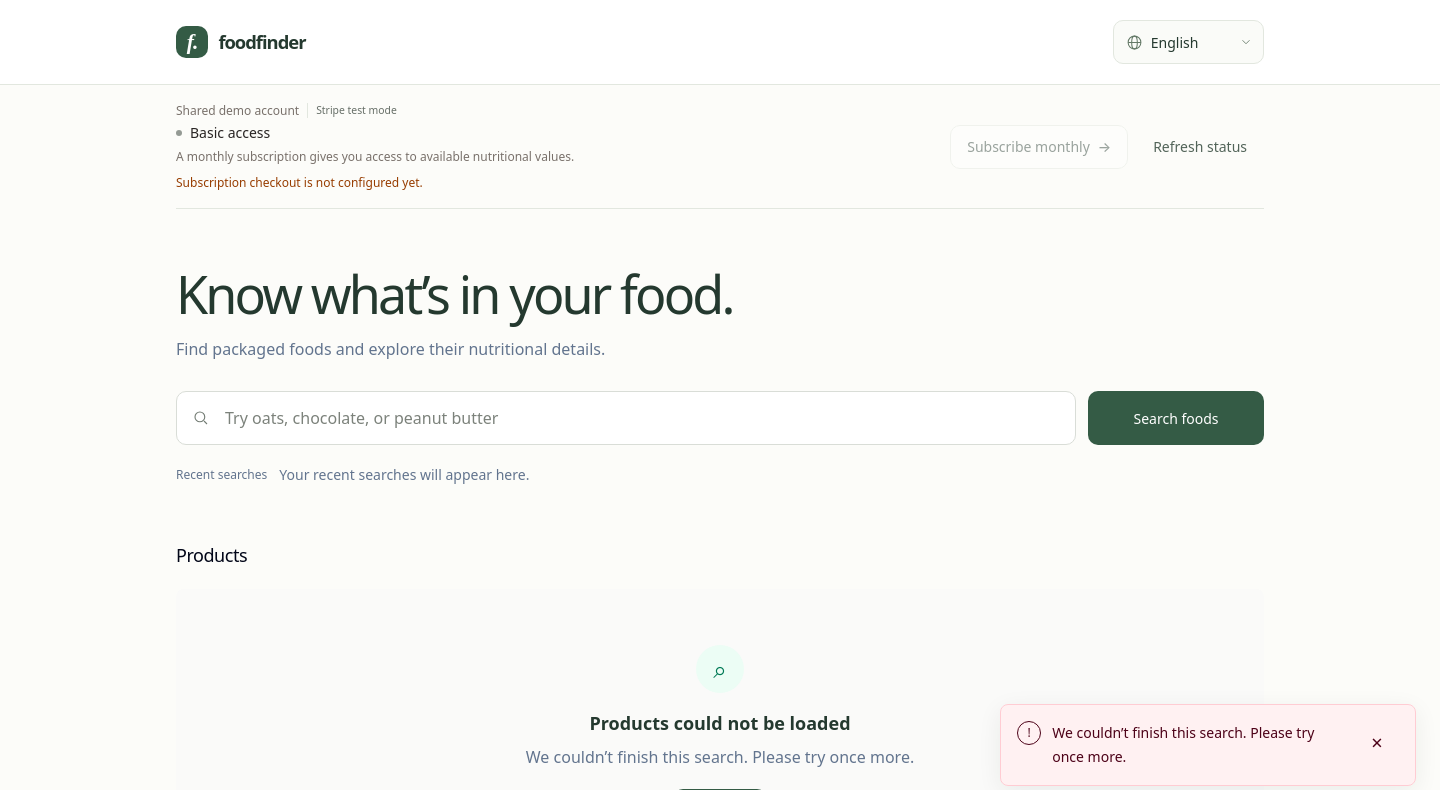
Scenario: dismisses a popup and retries a failed initial catalog
Expected: the message "! We couldn’t finish this search. Please try once more. ×" is shown, [1000,704,1416,786]
Click the button named "Dismiss notification": click(1377, 743) [1355,721,1399,765]
(page scrolled)
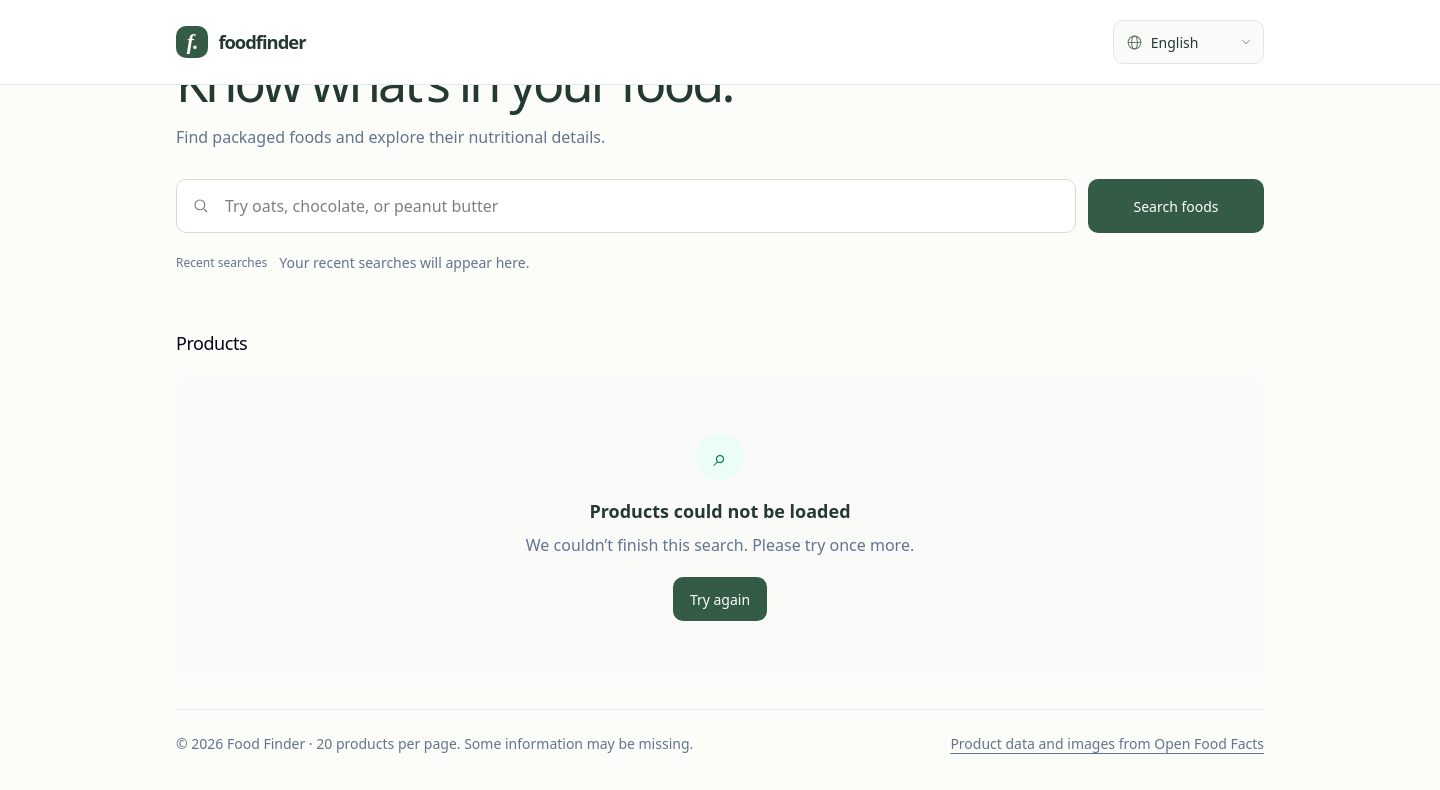
Now the message "! We couldn’t finish this search. Please try once more. ×" is gone
Click the button "Try again": click(720, 599) [673,577,767,621]
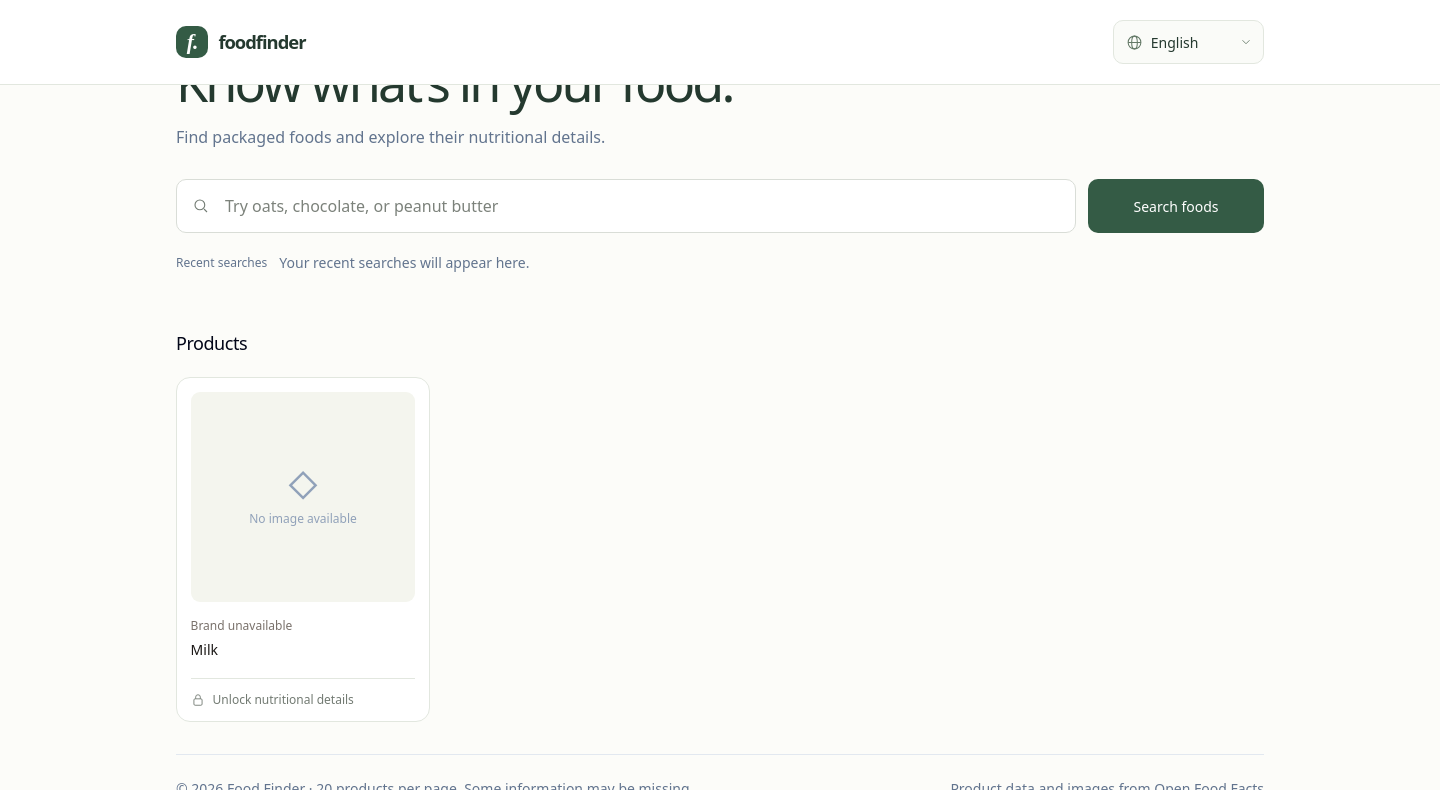
Now the heading "Milk" is shown, box [191,640,218,659]
